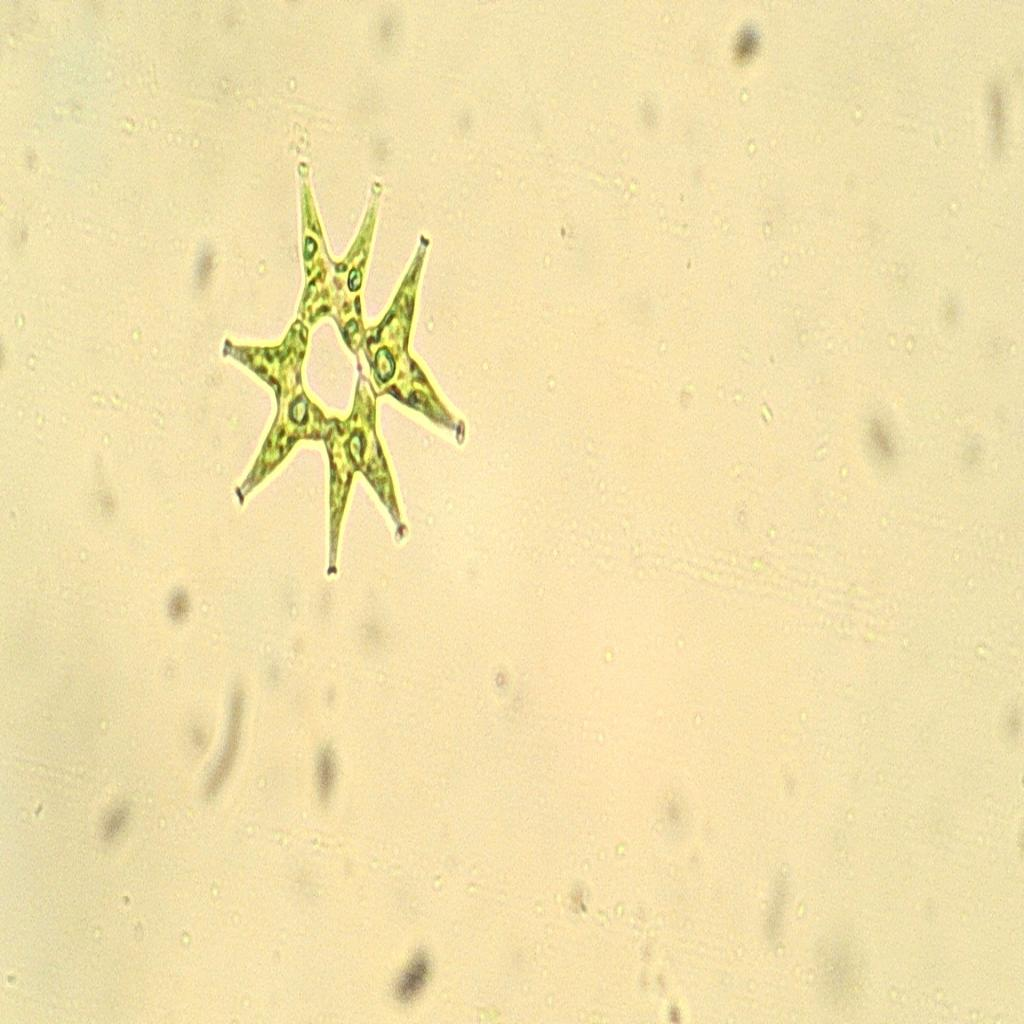Pediastrum_75FI: (194, 150, 504, 610)
